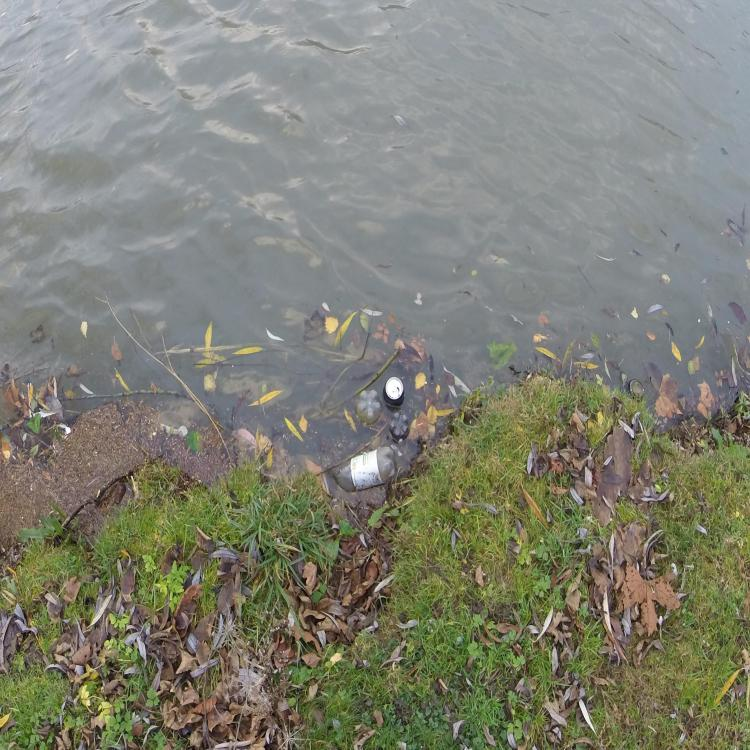Clear plastic bottle: (336, 446, 395, 491), (355, 389, 382, 425), (390, 411, 409, 442)
Drink can: (382, 376, 404, 407), (628, 378, 644, 400)
